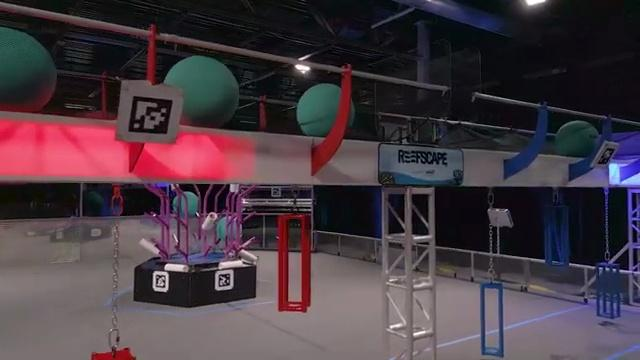ALGAE: (163, 54, 240, 129), (0, 26, 59, 114), (297, 83, 354, 138), (555, 120, 600, 160)
